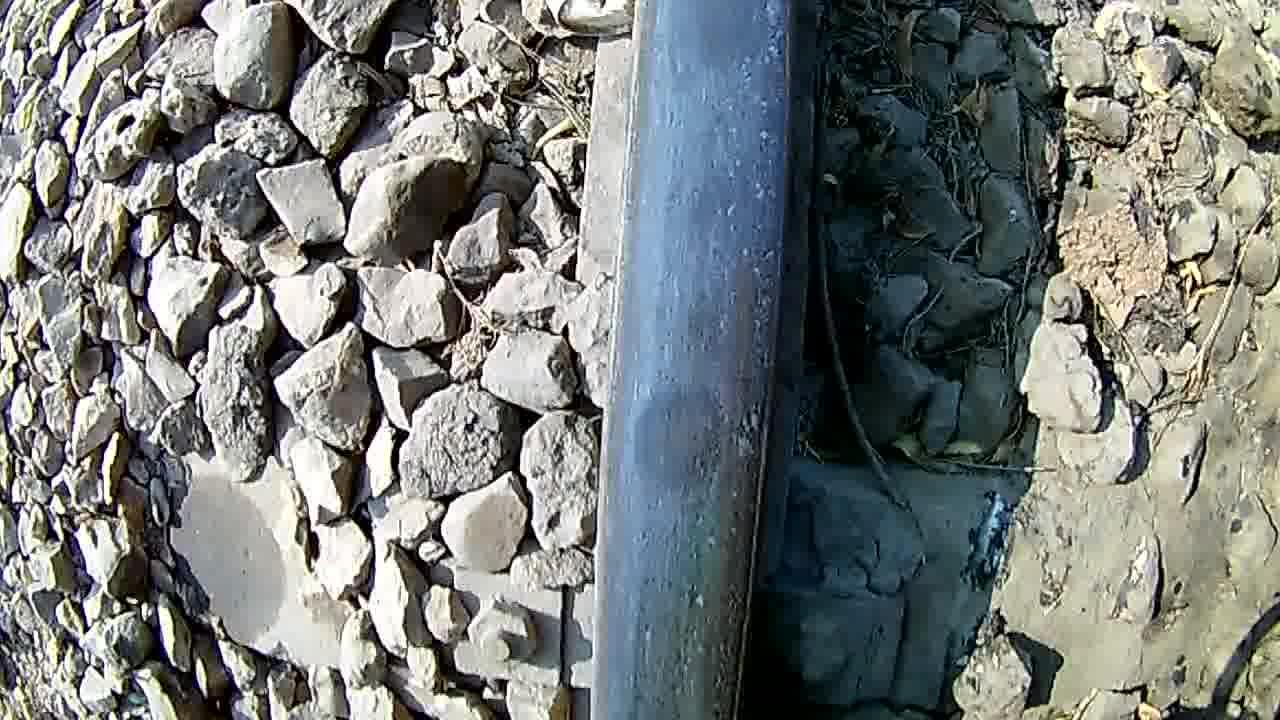bolt_missing: (624, 280, 769, 613)
